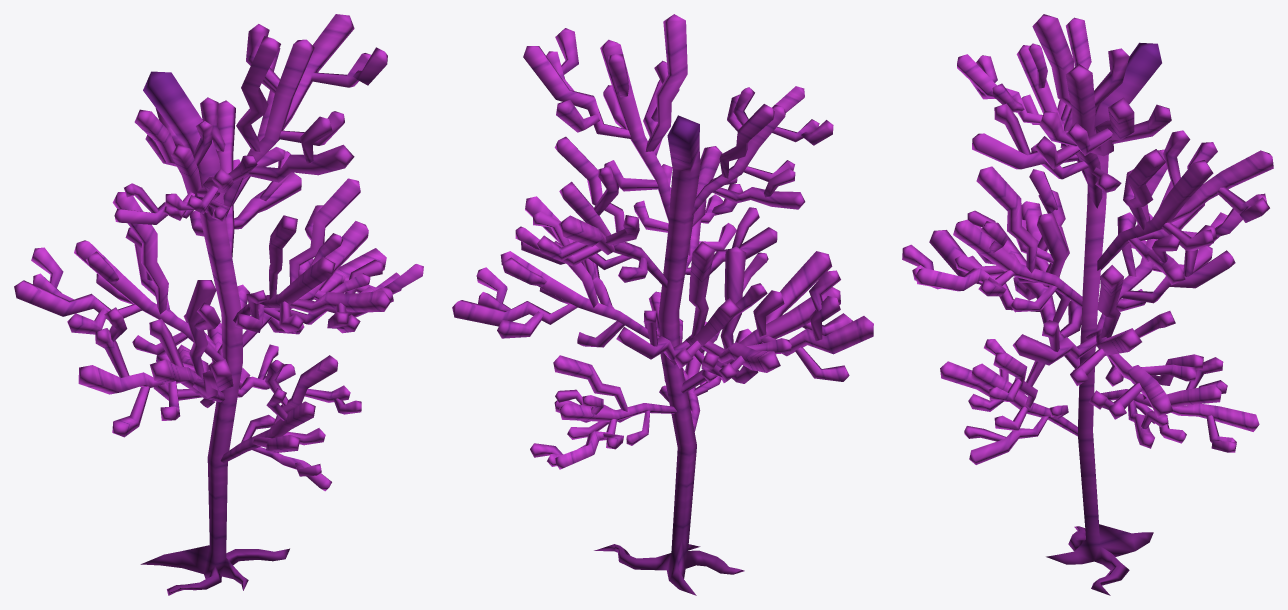
The model's file is CoralSputnick.fbx.
3 renders of one model, left to right at view 1: azimuth 30°, elevation 25°; view 2: azimuth 150°, elevation 25°; view 3: azimuth 270°, elevation 25°, orthographic. The views are drawn at different scales.
Visible parts, largest first — view 1: SputnickWeed; view 2: SputnickWeed; view 3: SputnickWeed.
Boxes of the visible parts, left/top/right/bottom form: SputnickWeed: left=14, top=14, right=423, bottom=595; SputnickWeed: left=452, top=14, right=873, bottom=595; SputnickWeed: left=902, top=14, right=1273, bottom=595.
Size of the model in its own units: 3.1 by 4.28 by 2.6.
1 material, 1 textured.
